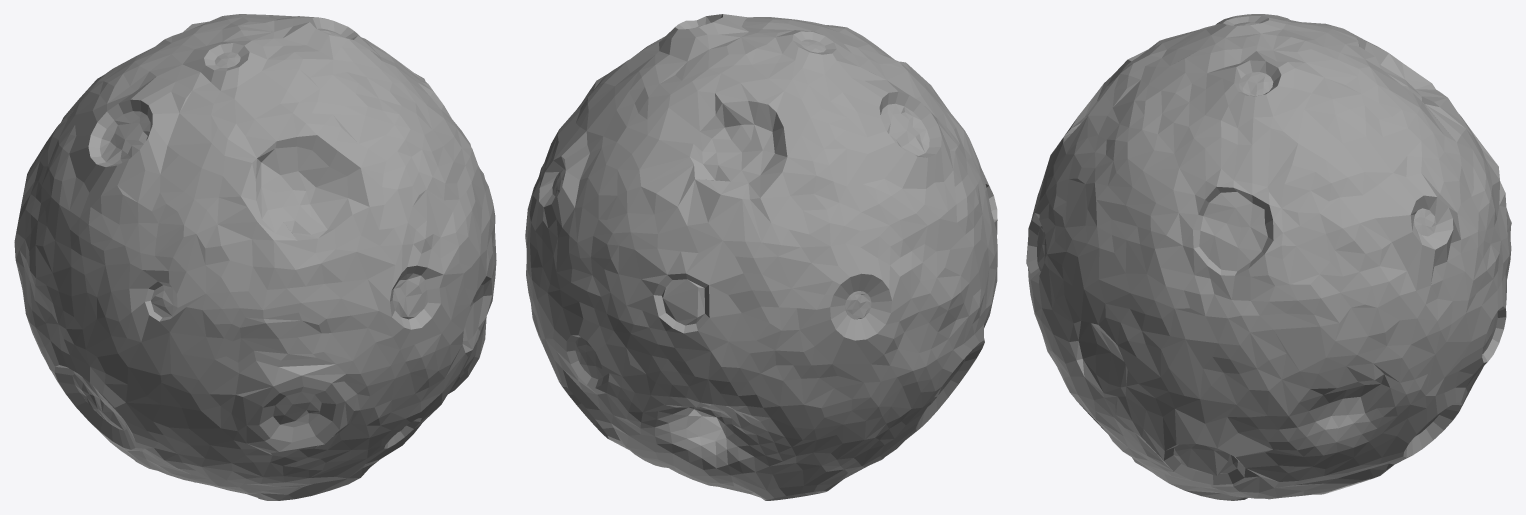
The model's file is Planets_32.glb.
The picture shows the model from 3 angles, left to right: view 1: azimuth 30°, elevation 25°; view 2: azimuth 150°, elevation 25°; view 3: azimuth 270°, elevation 25°; orthographic projection.
Parts seen in each view (by area): view 1: Planet_32; view 2: Planet_32; view 3: Planet_32.
Part boxes in pixels (x1,y1,x2,y2): Planet_32: (14, 14, 496, 500); Planet_32: (525, 14, 997, 500); Planet_32: (1026, 14, 1511, 500).
Size of the model in its own units: 20.08 by 20.59 by 20.23.
Materials: 1 (1 with a texture image).
